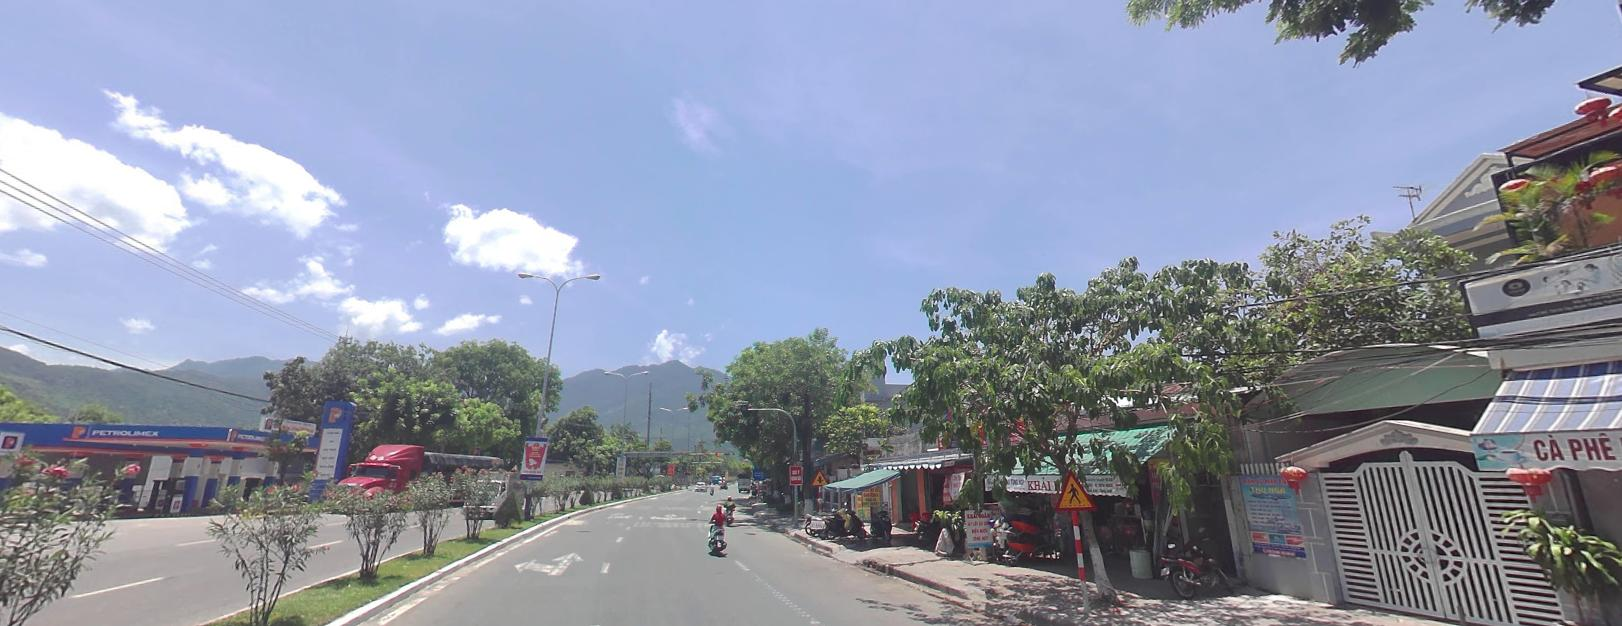Nguy hiem: (1051, 467, 1100, 511), (810, 468, 828, 485)
